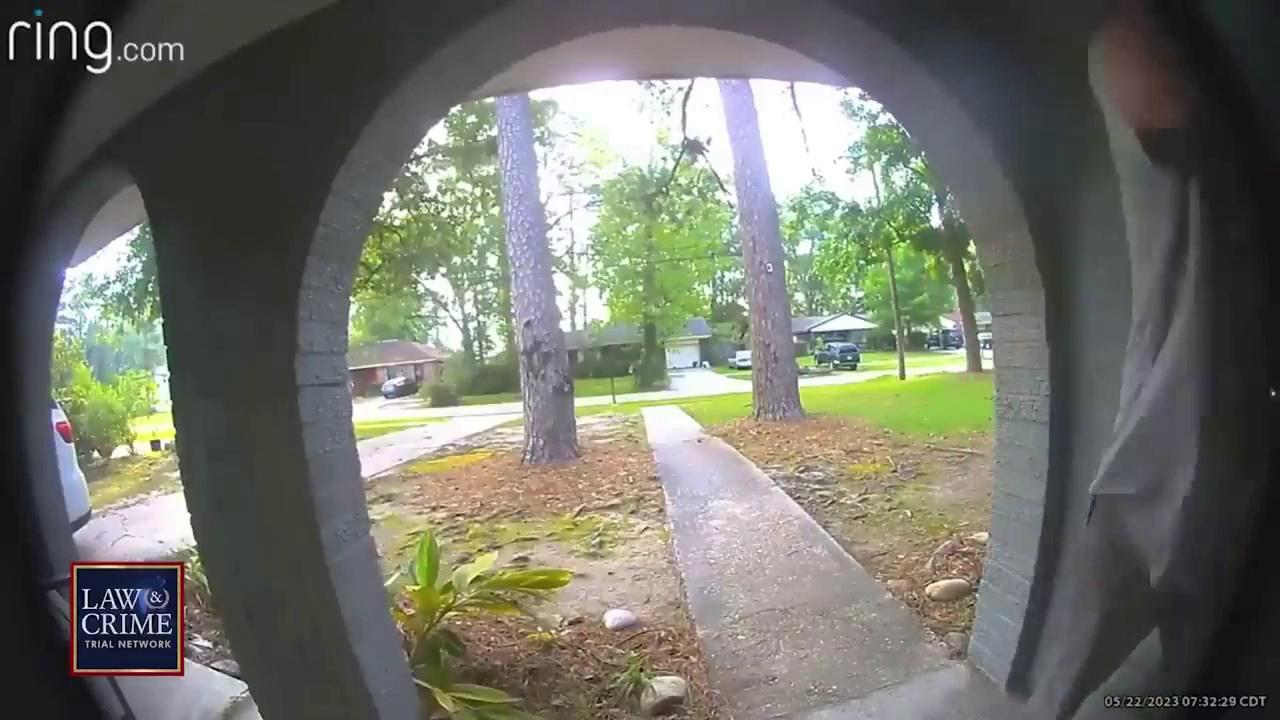suspicion: (1020, 0, 1280, 720)
